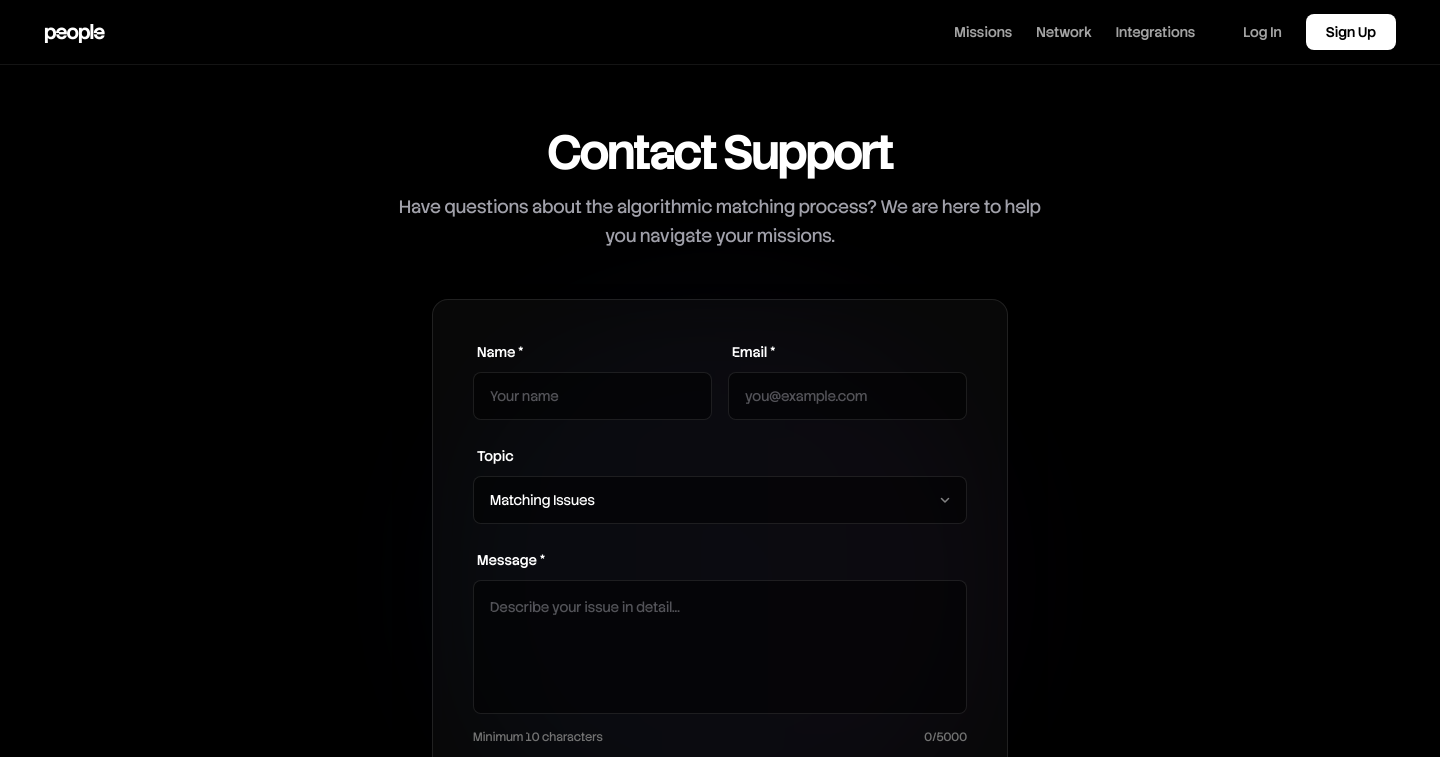
it: ContactPage › submits support form and shows ticket reference
Step 1. Type "Test User" into the field with placeholder "Your name" → point(592, 396), box x1=473 y1=372 x2=712 y2=420
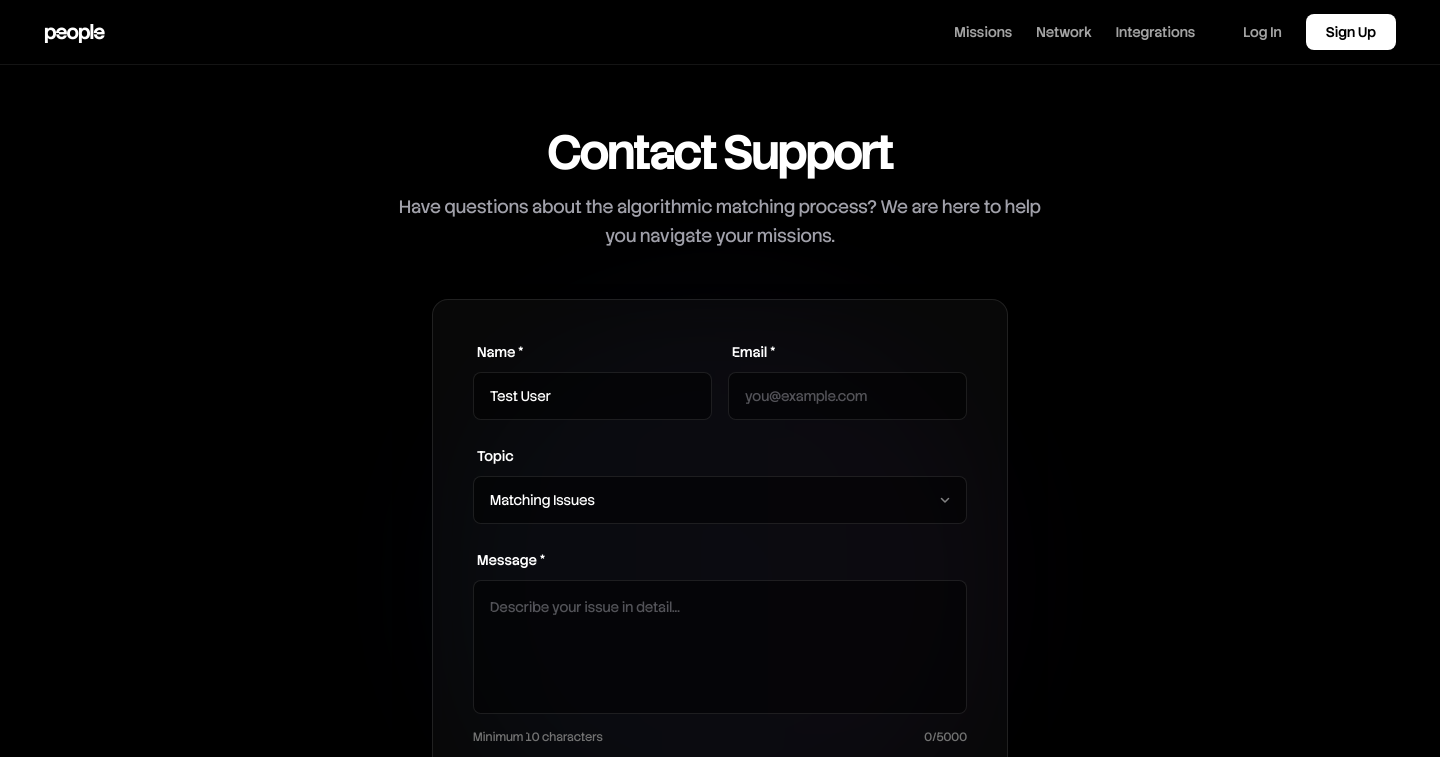
Step 2. Type "test@example.com" into the field with placeholder "you@example.com" → point(848, 396), box x1=728 y1=372 x2=967 y2=420
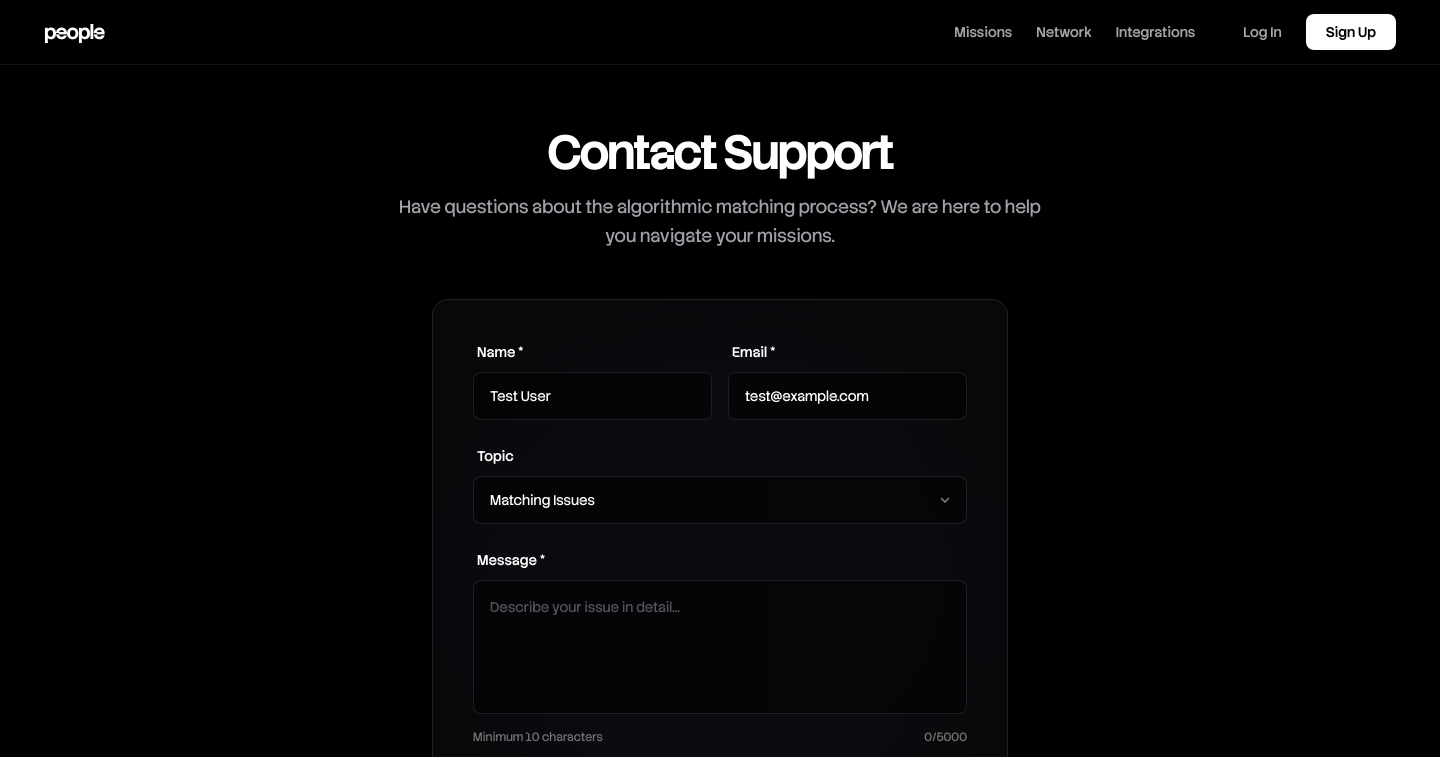
Step 3. Type "I need help connecting payment and profile flows." into the text box with placeholder "Describe your issue in detail..." → point(720, 646), box x1=473 y1=580 x2=967 y2=714
(page scrolled)
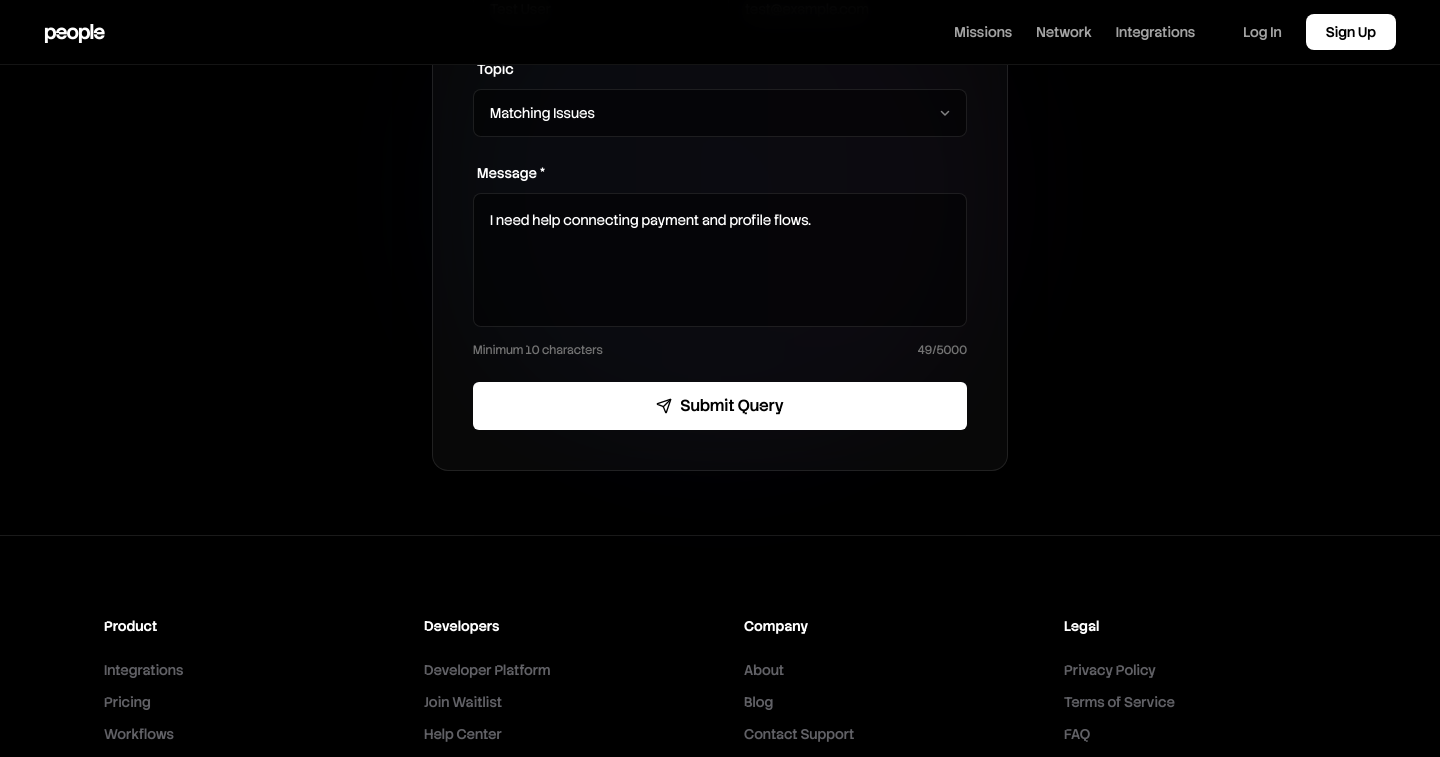
Step 4. Click the button "Submit Query" → point(720, 406), box x1=473 y1=382 x2=967 y2=430
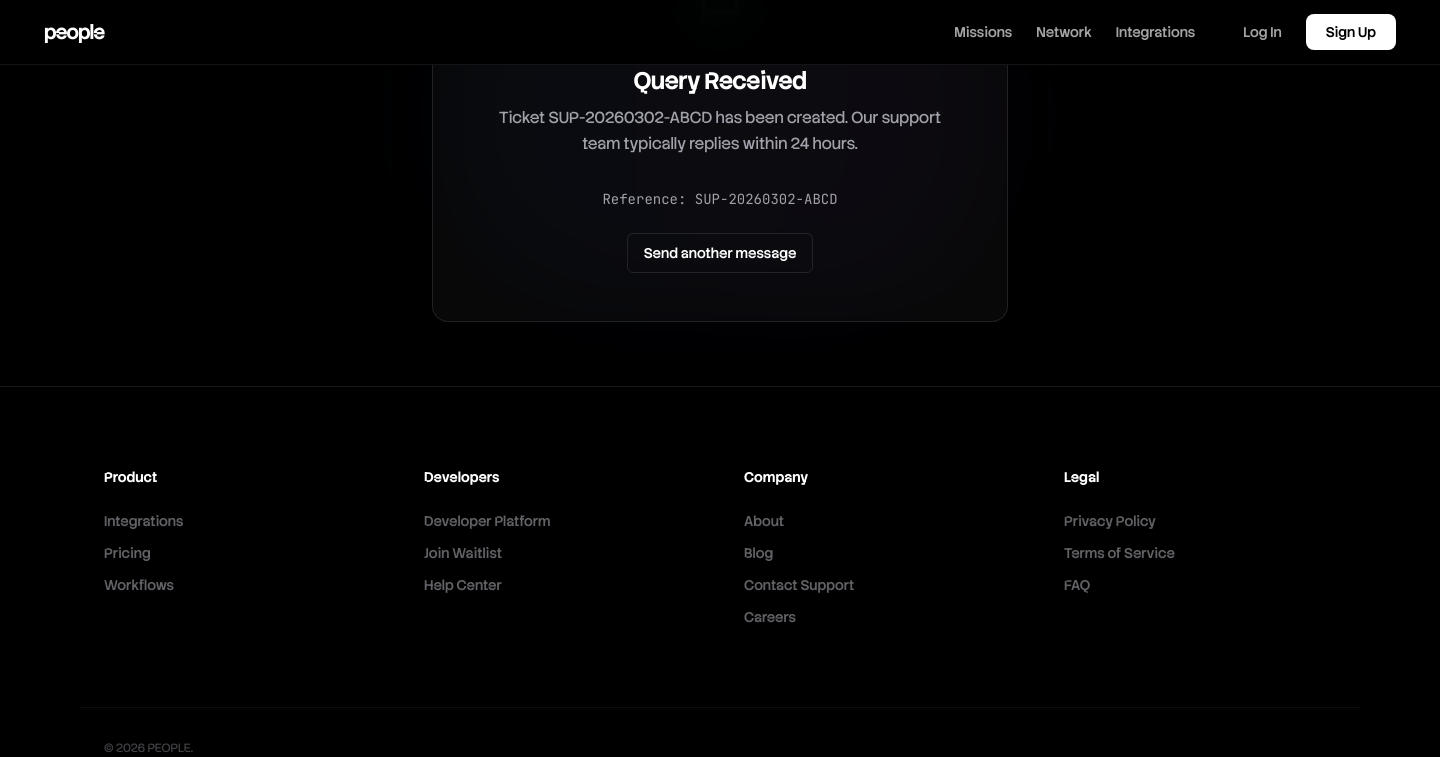
Expected: the text "Ticket SUP-20260302-ABCD has been created" is shown, x1=499 y1=106 x2=848 y2=128
